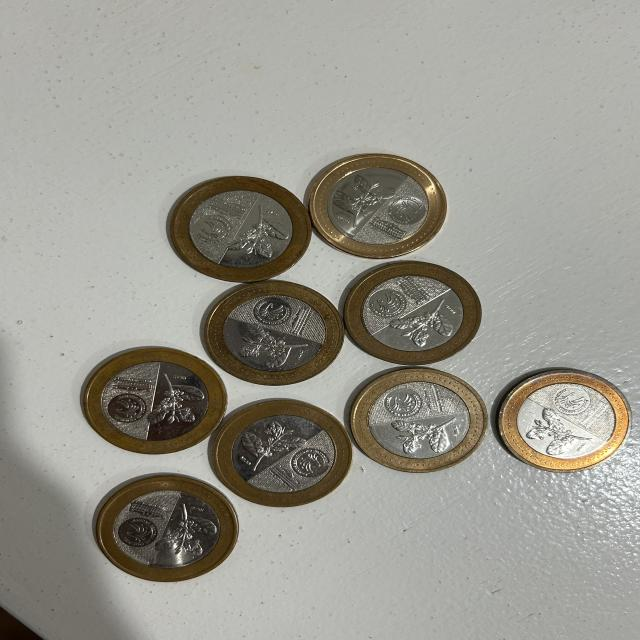20_New_Back: (330, 173, 390, 227), (232, 202, 287, 258)
